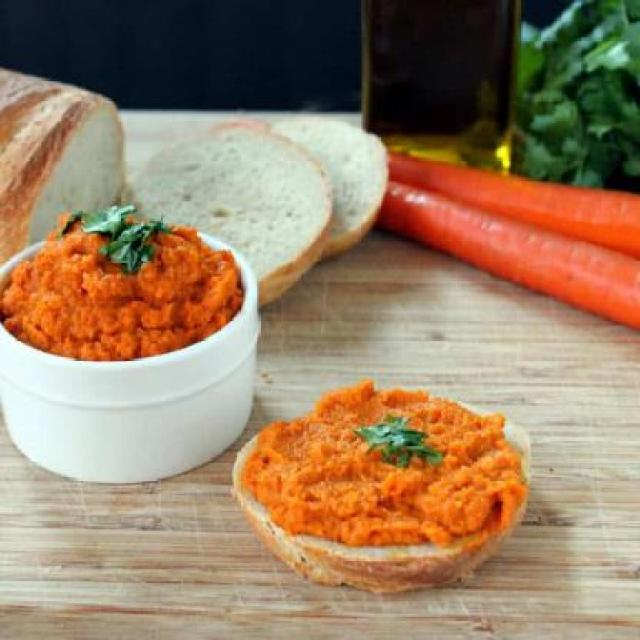Spread: (243, 376, 537, 550)
